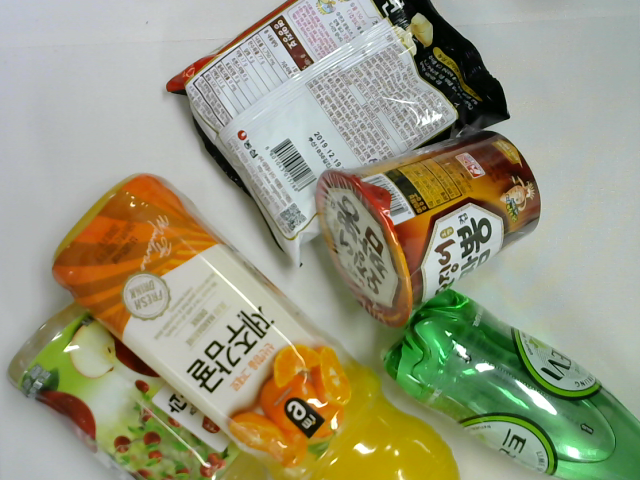Jeju_Tangerine_1.5L: (53, 171, 467, 480)
Morning_Apple_500ml: (6, 300, 282, 480)
Ojjam: (307, 133, 544, 328)
Potato: (164, 1, 510, 268)
Treviraim_500ml: (384, 286, 640, 480)
